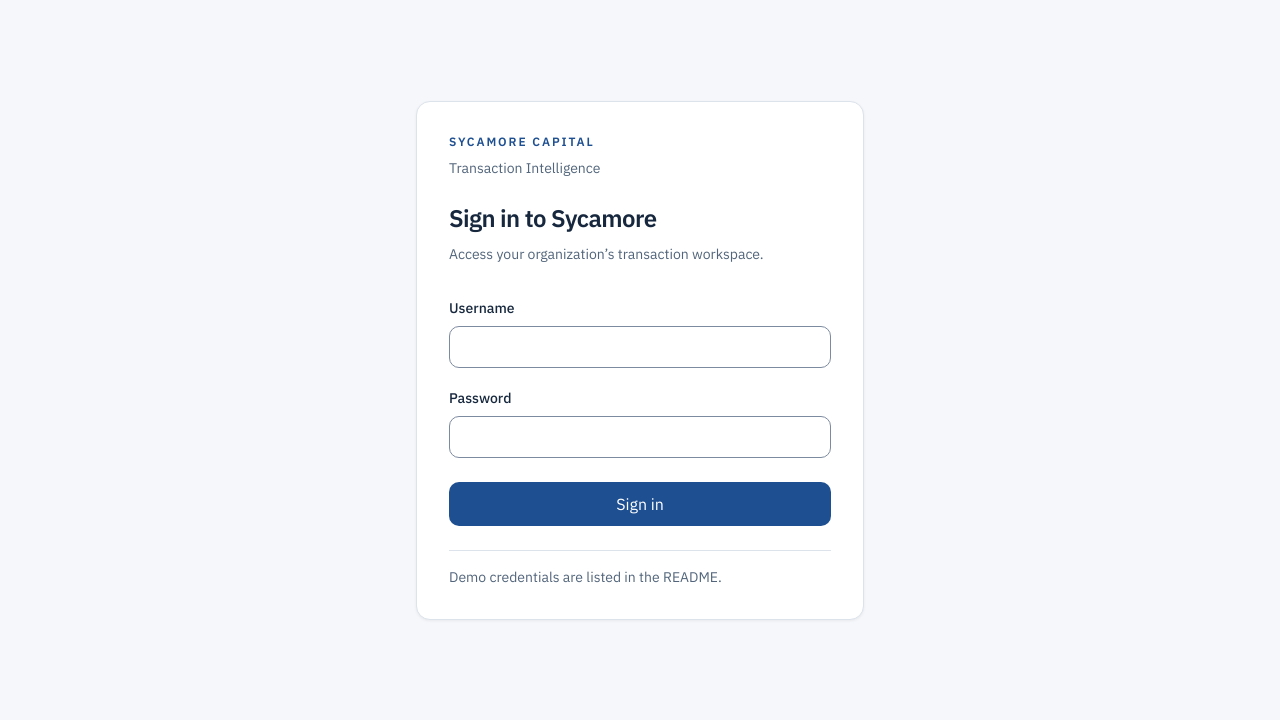
Test: transaction review detail flow › uses the existing correction endpoint and refreshes the review data
Type "analyst@example.test" into the field labelled "Username".
click(640, 346); type("analyst@example.test")  # box [449,326,831,368]
Type "password" into the password field labelled "Password".
click(640, 436); type("password")  # box [449,416,831,458]
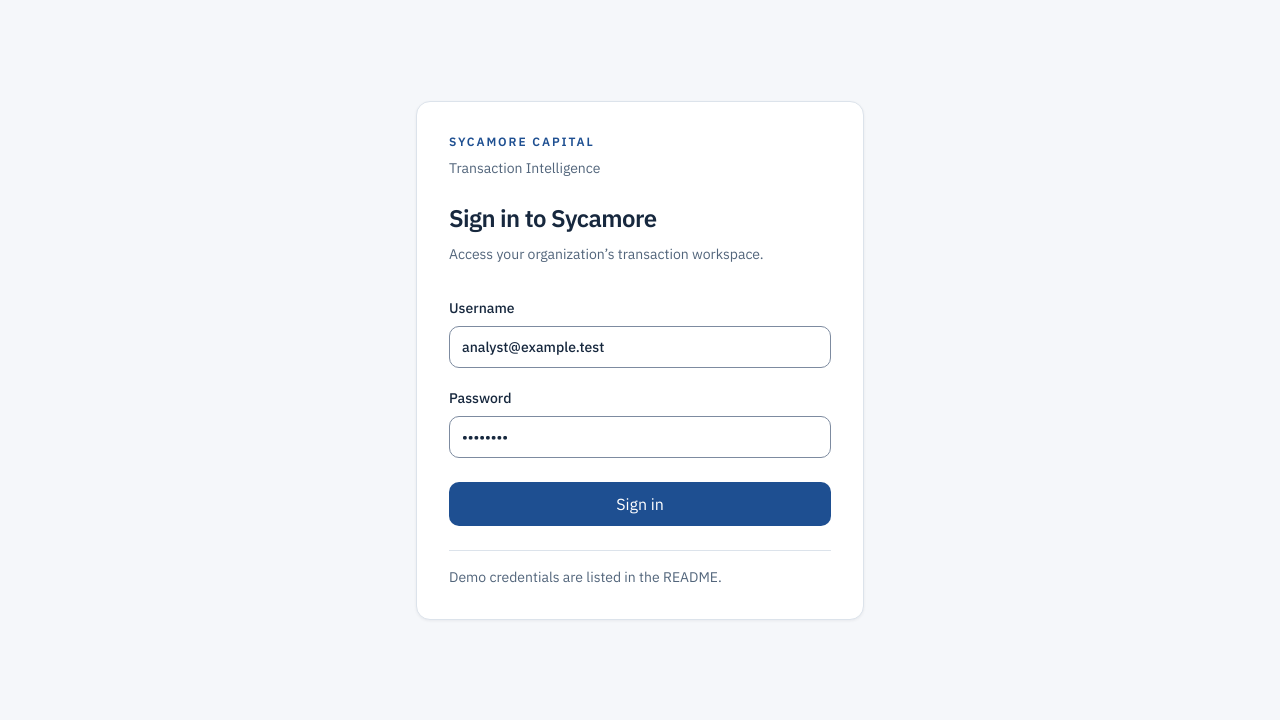
Click the button "Sign in".
click(640, 504)  # box [449,482,831,526]
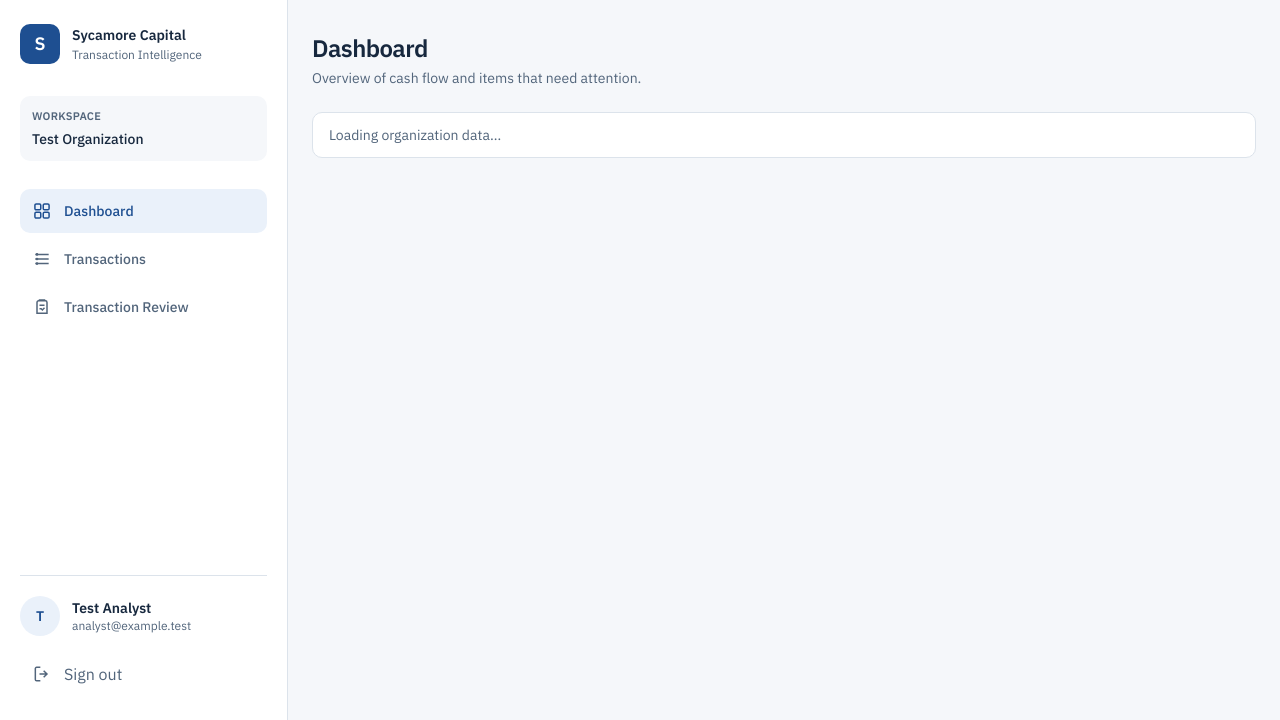
Click the link "Transaction Review".
click(110, 306)  # box [32,296,189,316]
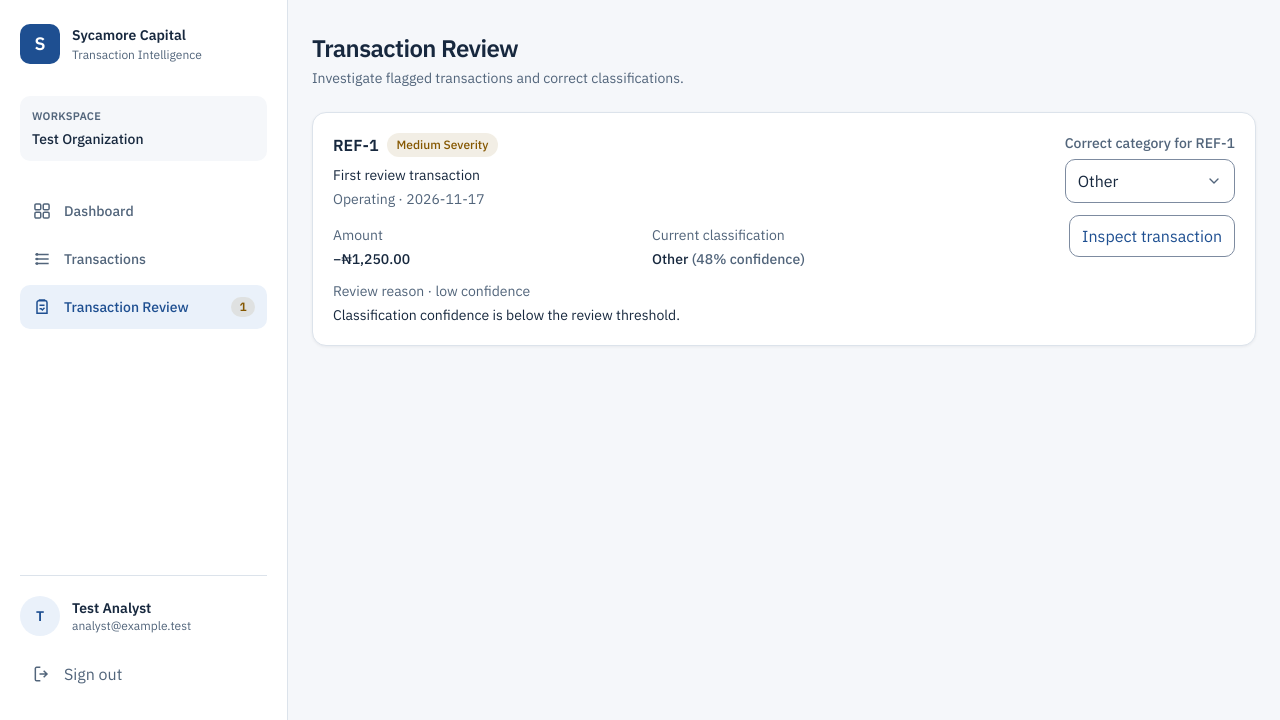
Click the dropdown named "Correct category for REF-1".
click(1150, 181)  # box [1065,159,1235,203]
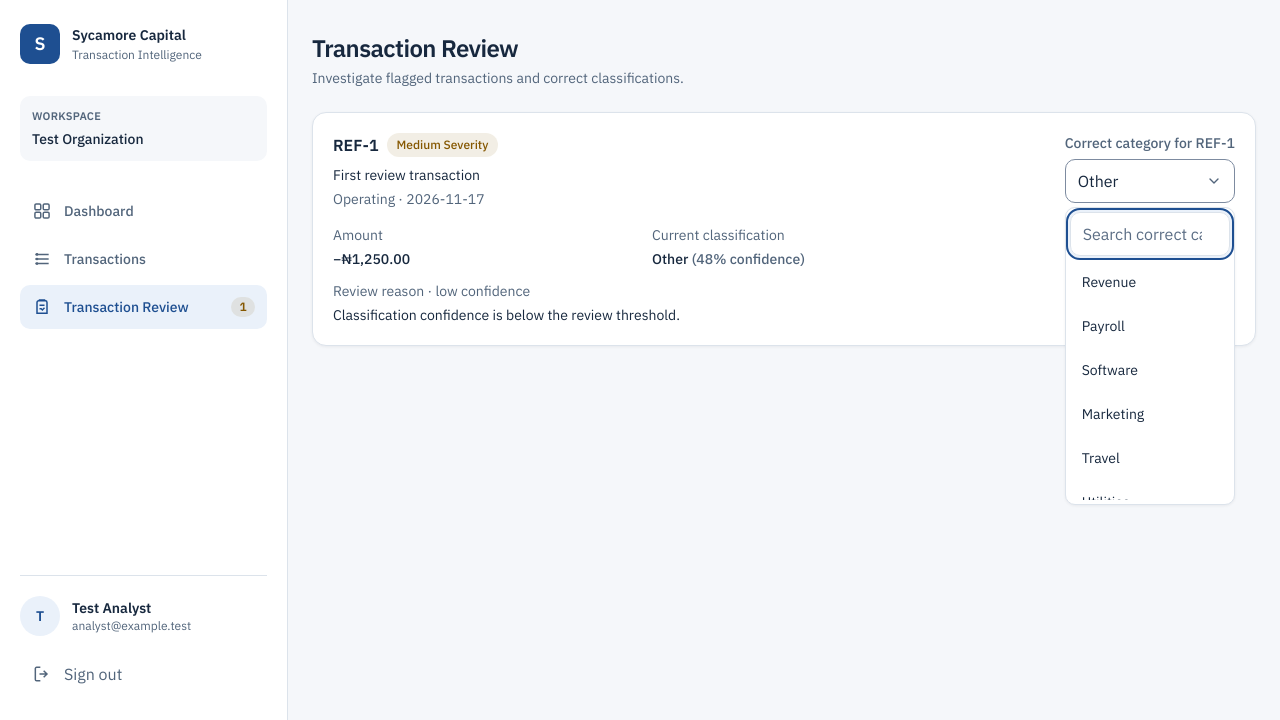
Type "Software" into the search field named "Search Correct category for REF-1 options".
click(1150, 234); type("Software")  # box [1070,212,1230,256]
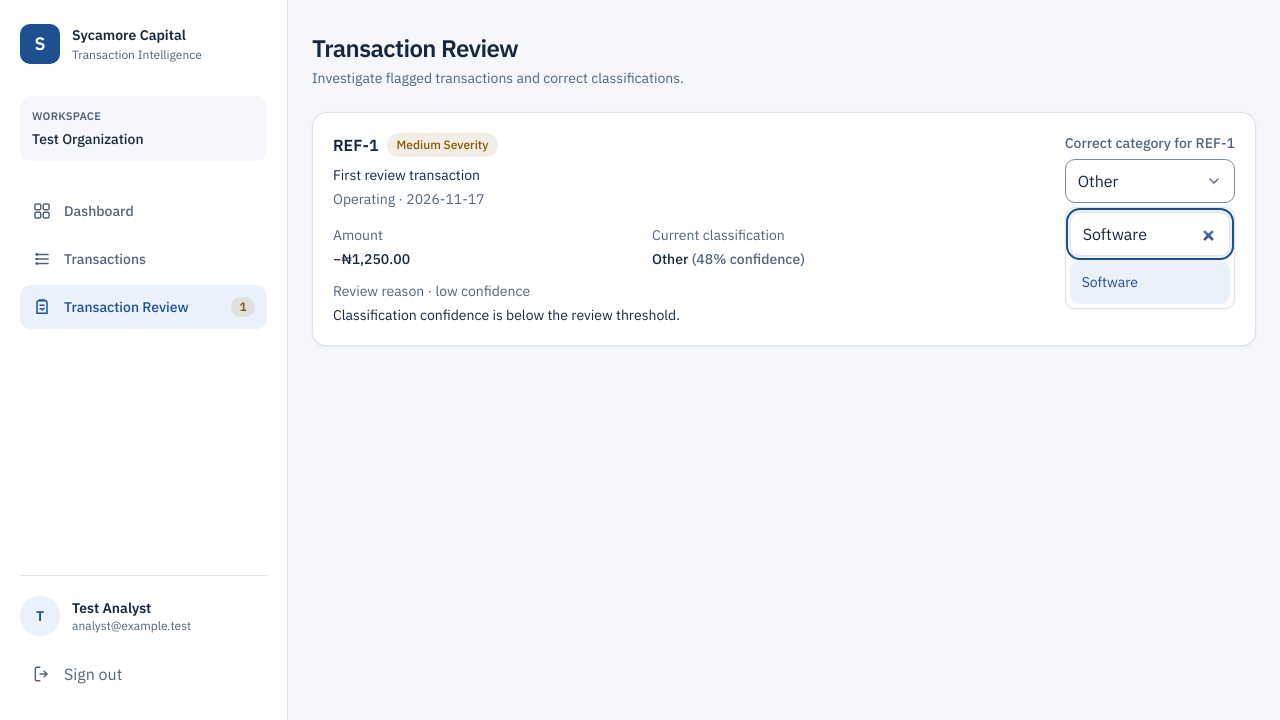
Click the option "Software".
click(1150, 282)  # box [1070,260,1230,304]
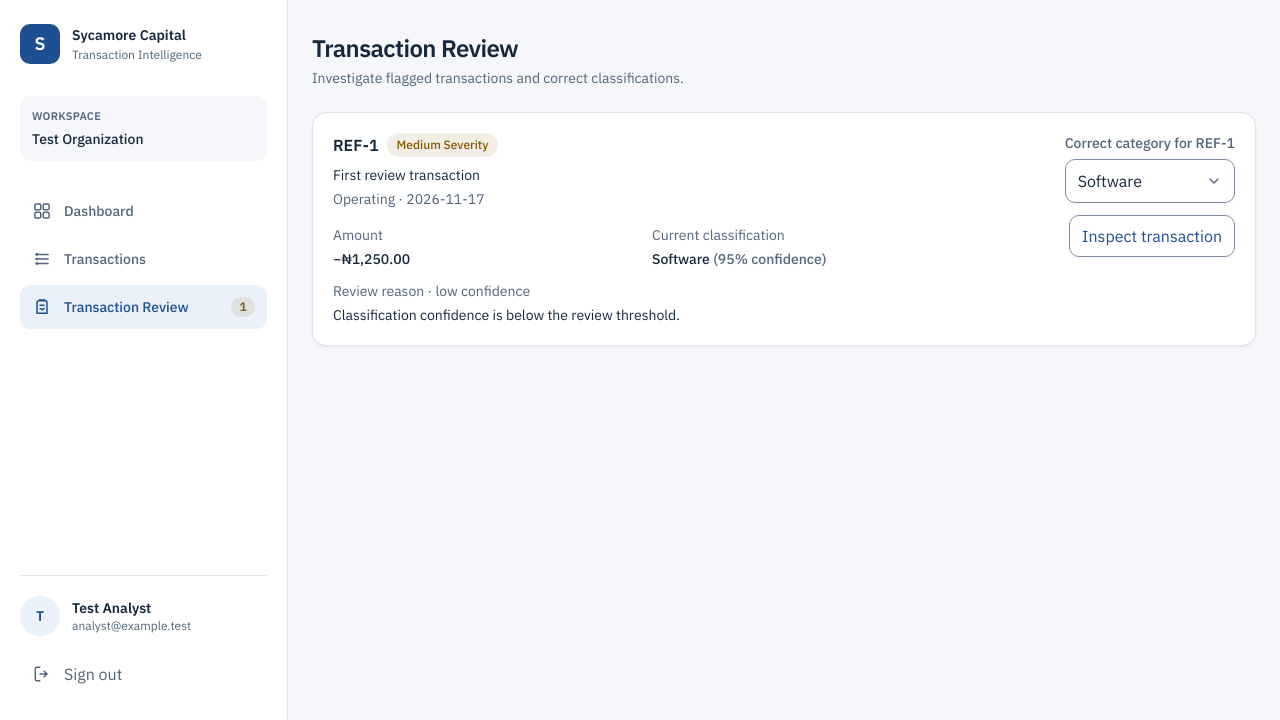
Now the dropdown named "Correct category for REF-1" reads "Software", box [1065,159,1235,203]
